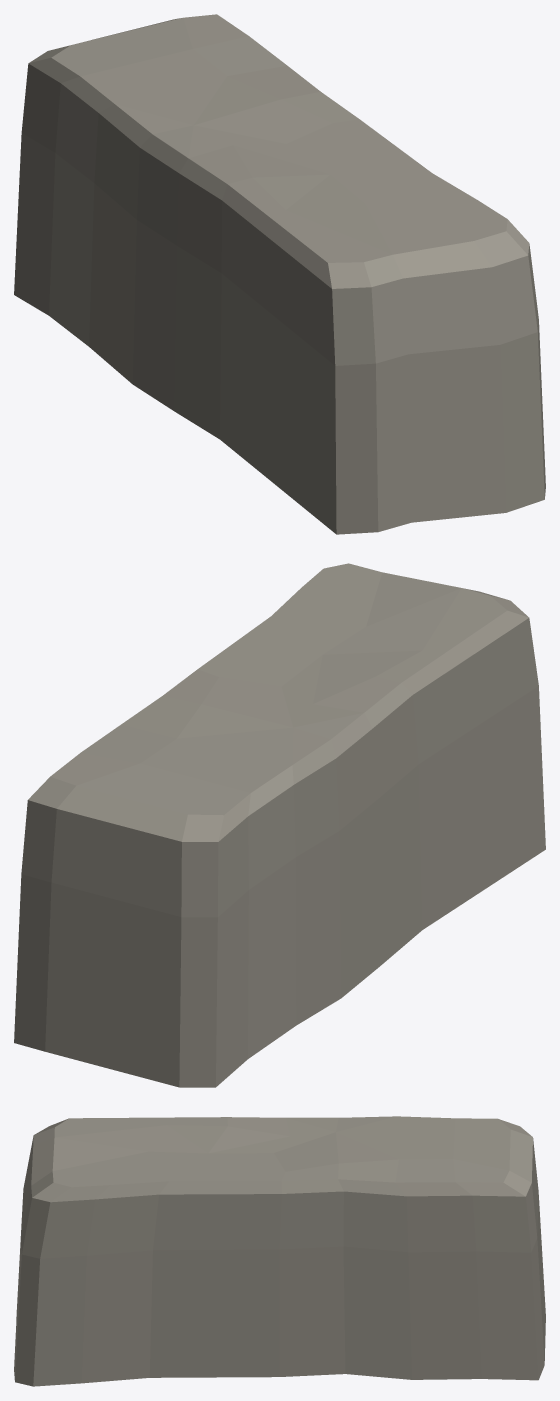
Rendered from ExportedBlenderFBXFile.fbx.
The picture shows the model from 3 angles, top to bottom: view 1: azimuth 30°, elevation 25°; view 2: azimuth 150°, elevation 25°; view 3: azimuth 270°, elevation 25°; orthographic projection. The views are drawn at different scales.
Parts seen in each view (by area): view 1: Cube; view 2: Cube; view 3: Cube.
Part boxes in pixels (bbox=[...]): Cube: bbox=[14, 14, 545, 534]; Cube: bbox=[14, 563, 545, 1087]; Cube: bbox=[14, 1116, 545, 1386].
Size of the model in its own units: 3.53 by 4.22 by 10.1.
